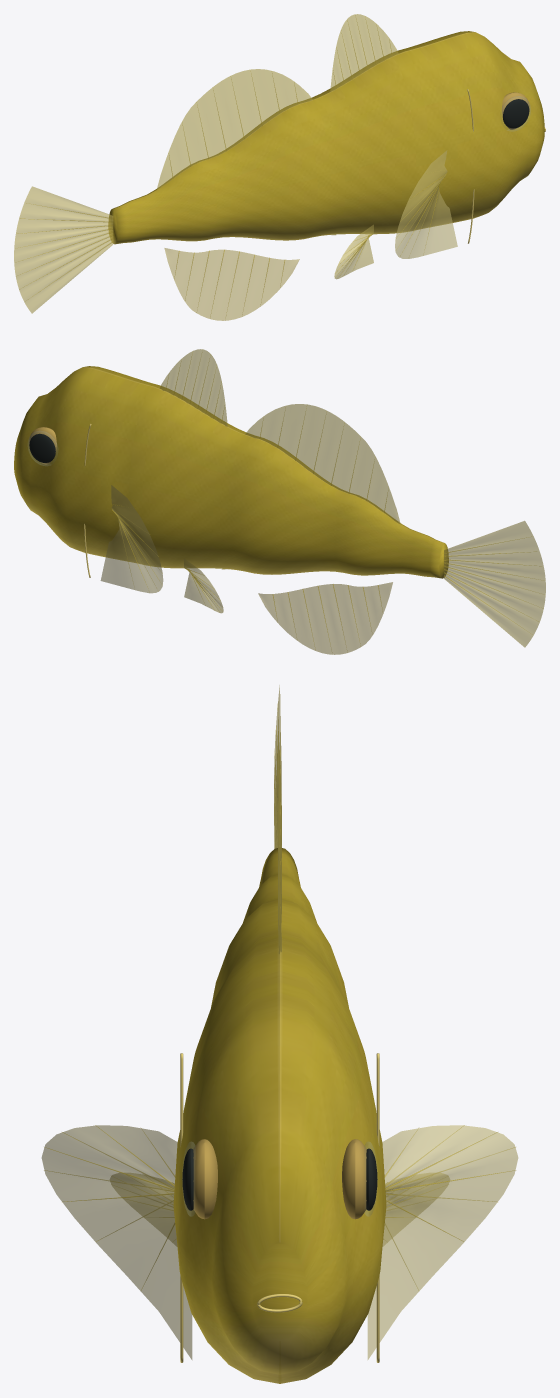
Rendered from clowngoby-mobile.glb.
The picture shows the model from 3 angles, top to bottom: view 1: azimuth 30°, elevation 25°; view 2: azimuth 150°, elevation 25°; view 3: azimuth 270°, elevation 25°; orthographic projection. The views are drawn at different scales.
Visible parts, largest first — view 1: skin, dorsal, tail, anal, pectoral-left, dorsal-ray, pelvic-left, eye-pupil--1; view 2: skin, dorsal, tail, anal, pectoral-left, dorsal-ray, pelvic-left, eye-pupil--1; view 3: skin, pectoral-left, pelvic-left, eye-iris--1, dorsal-ray, operculum, eye-pupil--1.
Boxes of the visible parts, <box> form: skin: <box>108,31,544,244</box>; dorsal: <box>157,14,398,189</box>; tail: <box>14,186,113,313</box>; anal: <box>164,248,299,320</box>; pectoral-left: <box>395,150,457,258</box>; dorsal-ray: <box>17,15,446,320</box>; pelvic-left: <box>331,224,373,279</box>; eye-pupil--1: <box>503,99,529,128</box>; skin: <box>14,366,448,578</box>; dorsal: <box>160,349,400,524</box>; tail: <box>444,521,545,647</box>; anal: <box>258,582,392,654</box>; pectoral-left: <box>100,485,163,593</box>; dorsal-ray: <box>112,356,530,646</box>; pelvic-left: <box>184,559,227,613</box>; eye-pupil--1: <box>29,433,55,462</box>; skin: <box>173,848,386,1383</box>; pectoral-left: <box>41,1125,518,1359</box>; pelvic-left: <box>110,1173,449,1245</box>; eye-iris--1: <box>193,1139,366,1219</box>; dorsal-ray: <box>44,704,515,1282</box>; operculum: <box>180,1053,379,1362</box>; eye-pupil--1: <box>182,1148,377,1210</box>.
Size of the model in its own units: 0.5972 by 0.298 by 0.2343.
Materials: 11 (1 with a texture image).
